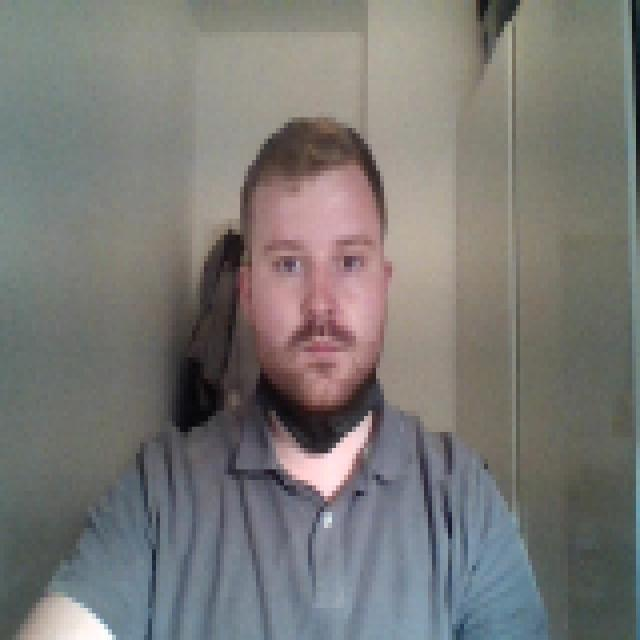hairnet: (220, 256, 416, 448)
